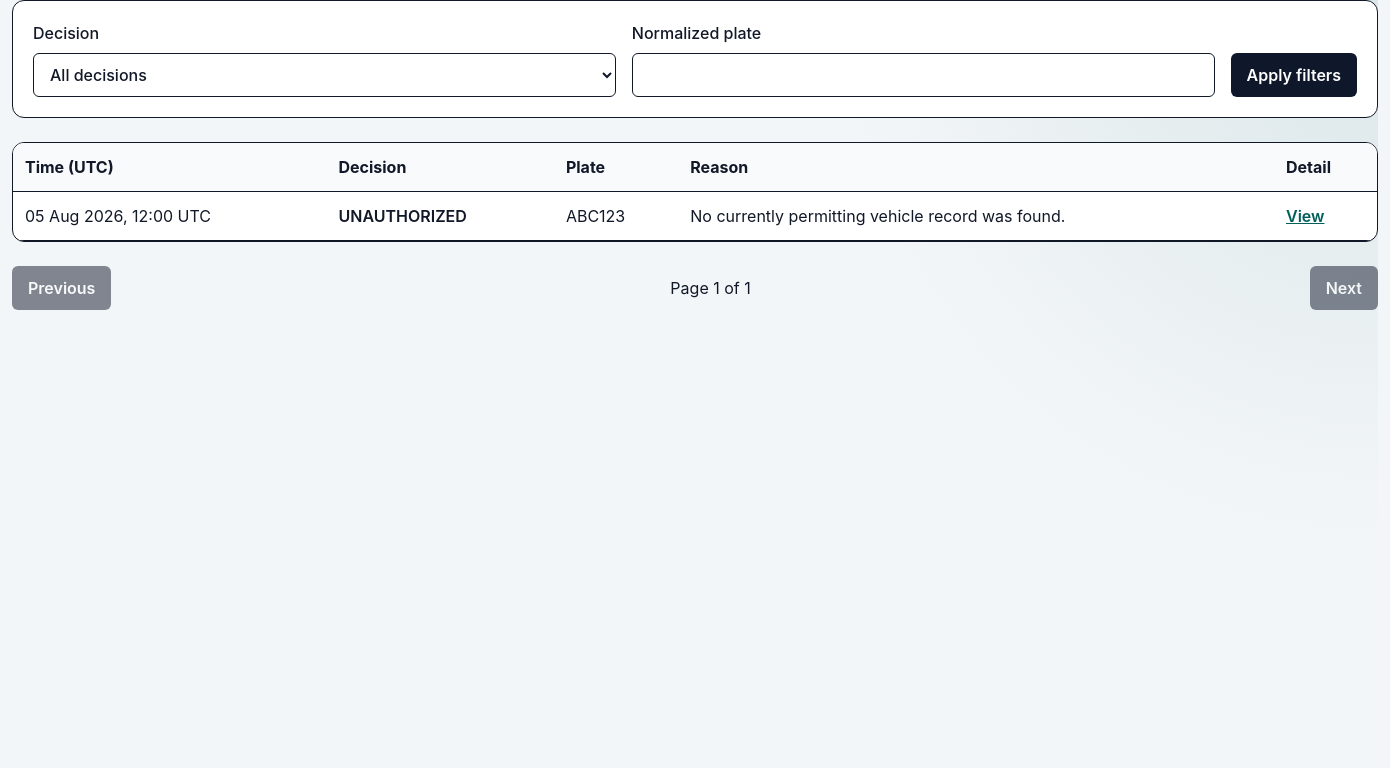
Test: Day 14 operational views › recovers by opening a detail successfully after a failure
Expected: the text "ABC123" is shown, [554,192,678,240]
Click the button "View". click: (1305, 216)
box: [1286,204,1324,228]
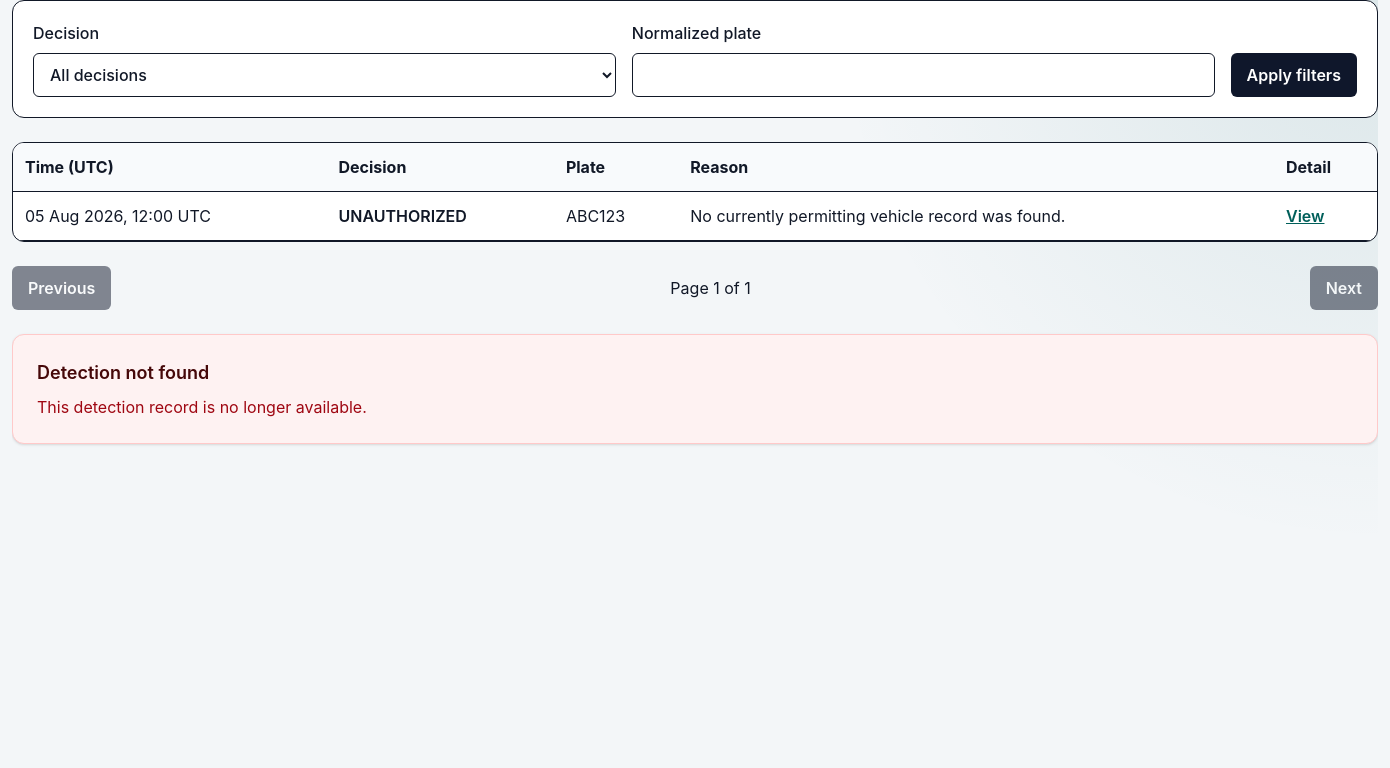
Expected: the heading "Detection not found" is shown, [37,362,209,383]
Click the button "View". click: (1305, 216)
box: [1286,204,1324,228]
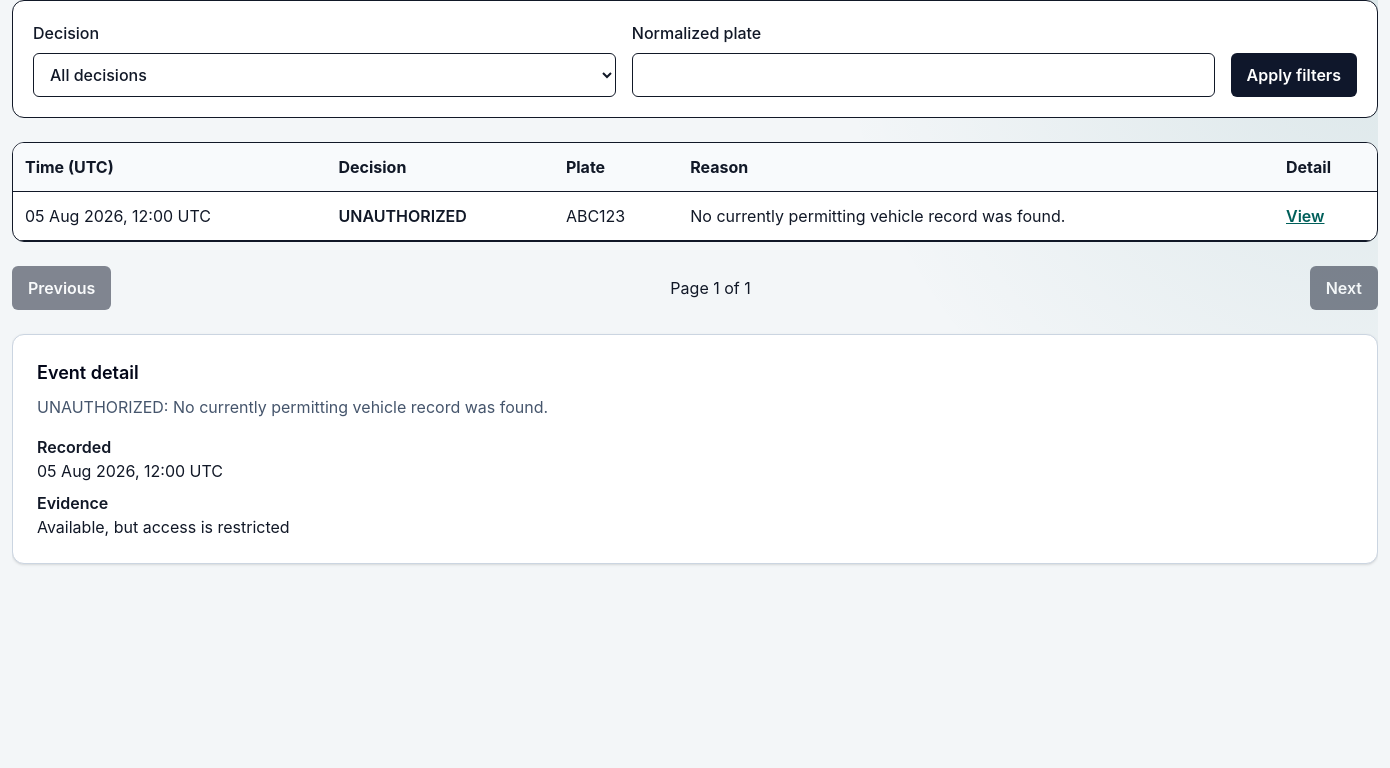
Expected: the text "Available, but access is restricted" is shown, [37,517,290,537]
Expected: the heading "Detection not found" is gone
